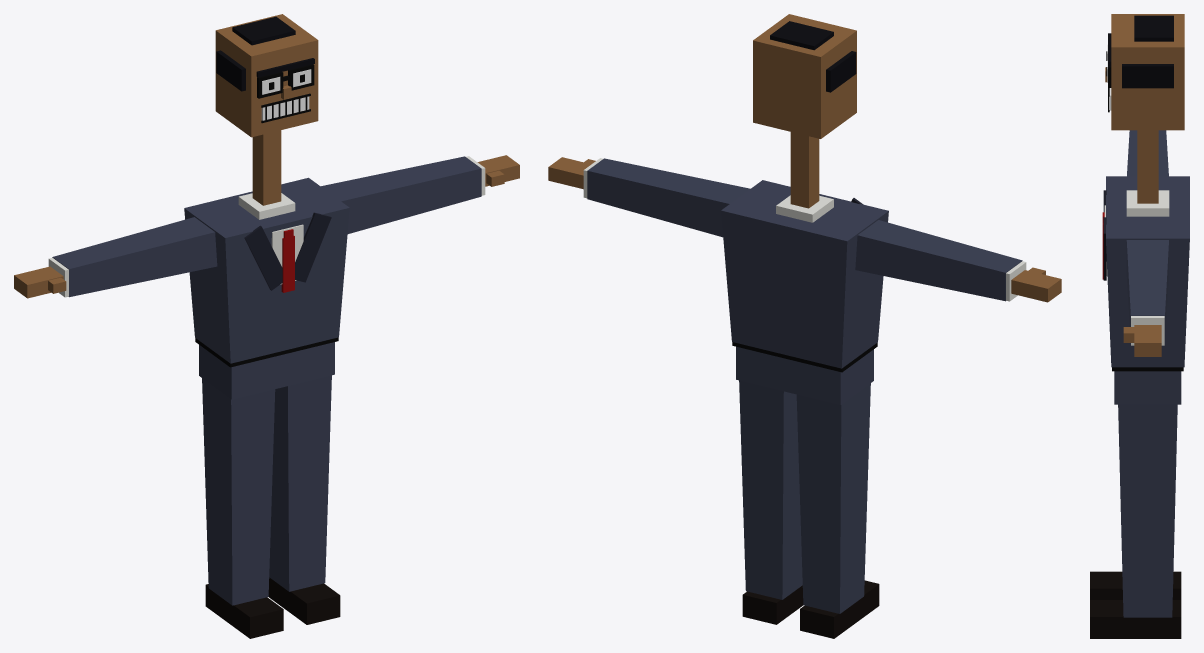
File: thana_mixamo.fbx
The picture shows the model from 3 angles, left to right: view 1: azimuth 30°, elevation 25°; view 2: azimuth 150°, elevation 25°; view 3: azimuth 270°, elevation 25°; orthographic projection. The views are drawn at different scales.
Parts seen in each view (by area): view 1: Thana; view 2: Thana; view 3: Thana.
Part boxes in pixels (x1,y1,x2,y2): Thana: [14, 14, 519, 638]; Thana: [548, 14, 1061, 638]; Thana: [1090, 14, 1189, 638].
Bounding box in the file's own units: 191 × 214 × 32.8.
1 material, 1 textured.
